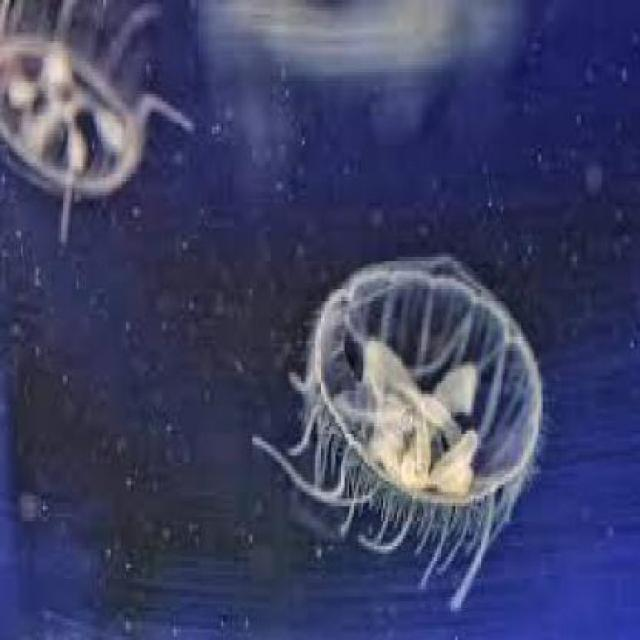Jellyfish: (250, 249, 544, 611)
